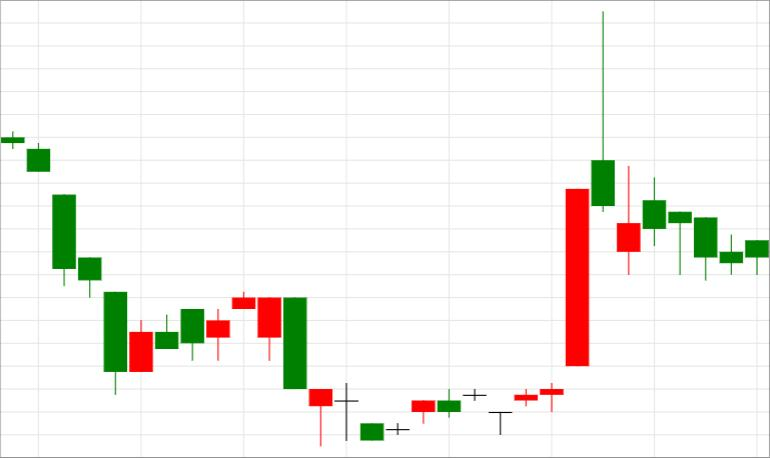shooting_star_fall: (489, 12, 614, 435)
